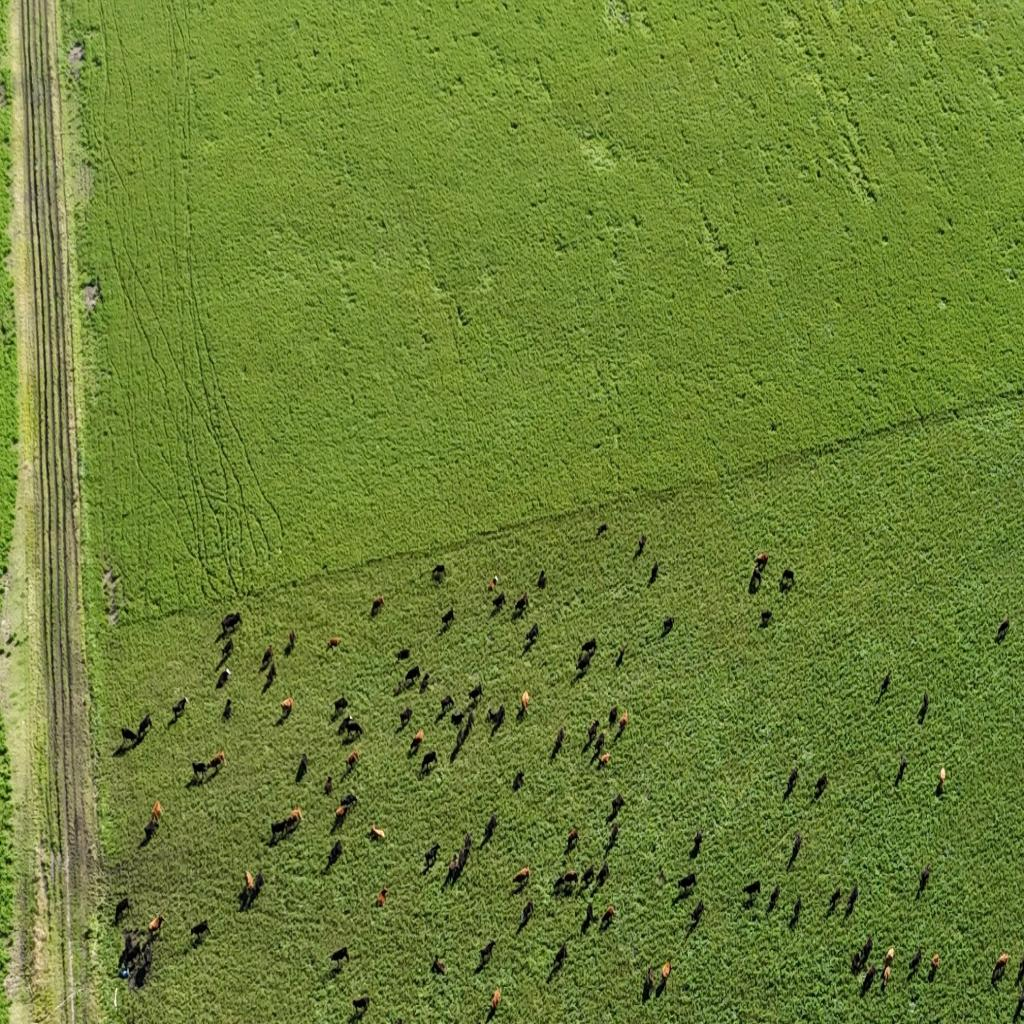cow: (453, 716, 473, 758), (851, 936, 873, 972), (120, 936, 140, 972), (134, 951, 152, 990), (554, 870, 578, 894), (882, 946, 897, 983), (339, 715, 362, 739), (113, 896, 131, 926), (220, 612, 242, 636), (991, 954, 1007, 986), (481, 813, 498, 843), (485, 990, 500, 1024), (190, 919, 211, 942), (280, 812, 300, 836), (788, 833, 802, 867), (478, 940, 496, 966), (518, 900, 533, 931), (327, 839, 343, 868), (582, 901, 596, 934), (845, 882, 859, 915), (488, 704, 504, 732), (552, 727, 566, 759), (677, 872, 698, 893), (419, 750, 437, 774), (423, 842, 441, 866), (141, 817, 157, 844), (894, 755, 908, 785), (827, 886, 842, 914), (655, 967, 669, 997), (172, 696, 188, 722), (137, 714, 153, 740), (239, 880, 252, 912), (642, 968, 654, 1002), (605, 823, 619, 852), (579, 637, 597, 659), (270, 817, 288, 839), (690, 899, 704, 927), (690, 830, 704, 858), (862, 963, 876, 991), (878, 670, 891, 700), (779, 568, 794, 594), (150, 800, 163, 830), (767, 884, 780, 914), (461, 833, 472, 868), (330, 946, 350, 965), (742, 880, 761, 900), (352, 995, 370, 1016), (553, 941, 567, 968), (596, 861, 610, 888), (120, 727, 138, 748), (586, 719, 599, 748), (148, 914, 164, 937), (576, 648, 591, 672), (786, 767, 798, 797), (393, 675, 411, 695), (209, 751, 226, 772), (396, 707, 412, 729), (192, 759, 208, 781), (996, 618, 1010, 643), (295, 754, 307, 783), (252, 869, 264, 898), (920, 863, 932, 892), (514, 592, 529, 615), (216, 667, 231, 690), (566, 827, 579, 853), (909, 948, 922, 974), (591, 739, 604, 765), (525, 622, 539, 646), (404, 666, 420, 687), (610, 794, 624, 818), (467, 683, 483, 704), (634, 532, 646, 560), (918, 691, 929, 721), (464, 710, 475, 740), (814, 773, 827, 798), (512, 866, 530, 884), (581, 865, 595, 888), (333, 696, 349, 716), (431, 956, 447, 976), (220, 638, 233, 662), (261, 645, 274, 669), (340, 793, 358, 810), (288, 806, 304, 825), (602, 903, 615, 926), (440, 607, 454, 628), (370, 595, 384, 616), (265, 663, 277, 687), (749, 571, 761, 595), (370, 824, 386, 842), (608, 705, 620, 729), (448, 854, 460, 878), (328, 961, 344, 979), (929, 953, 940, 979), (440, 694, 454, 714), (492, 591, 506, 611), (936, 767, 946, 795), (755, 552, 769, 572), (792, 896, 802, 924), (880, 961, 890, 989), (280, 695, 292, 718), (432, 563, 446, 582), (513, 770, 525, 792), (648, 561, 659, 585), (411, 729, 424, 749), (450, 710, 465, 727), (285, 630, 296, 653), (346, 750, 360, 768), (516, 698, 527, 720), (760, 609, 773, 627), (420, 671, 431, 692), (223, 696, 233, 719), (244, 869, 254, 892), (335, 804, 347, 823), (1018, 954, 1024, 991), (598, 752, 611, 769), (663, 616, 674, 636), (616, 645, 626, 667), (376, 888, 388, 906), (396, 647, 410, 662), (1017, 992, 1024, 1022), (619, 709, 628, 731), (596, 522, 608, 538), (662, 960, 671, 981), (537, 570, 546, 590), (521, 689, 530, 709), (647, 965, 655, 987), (488, 575, 498, 592), (326, 637, 340, 649), (324, 775, 332, 794), (658, 869, 666, 887)
